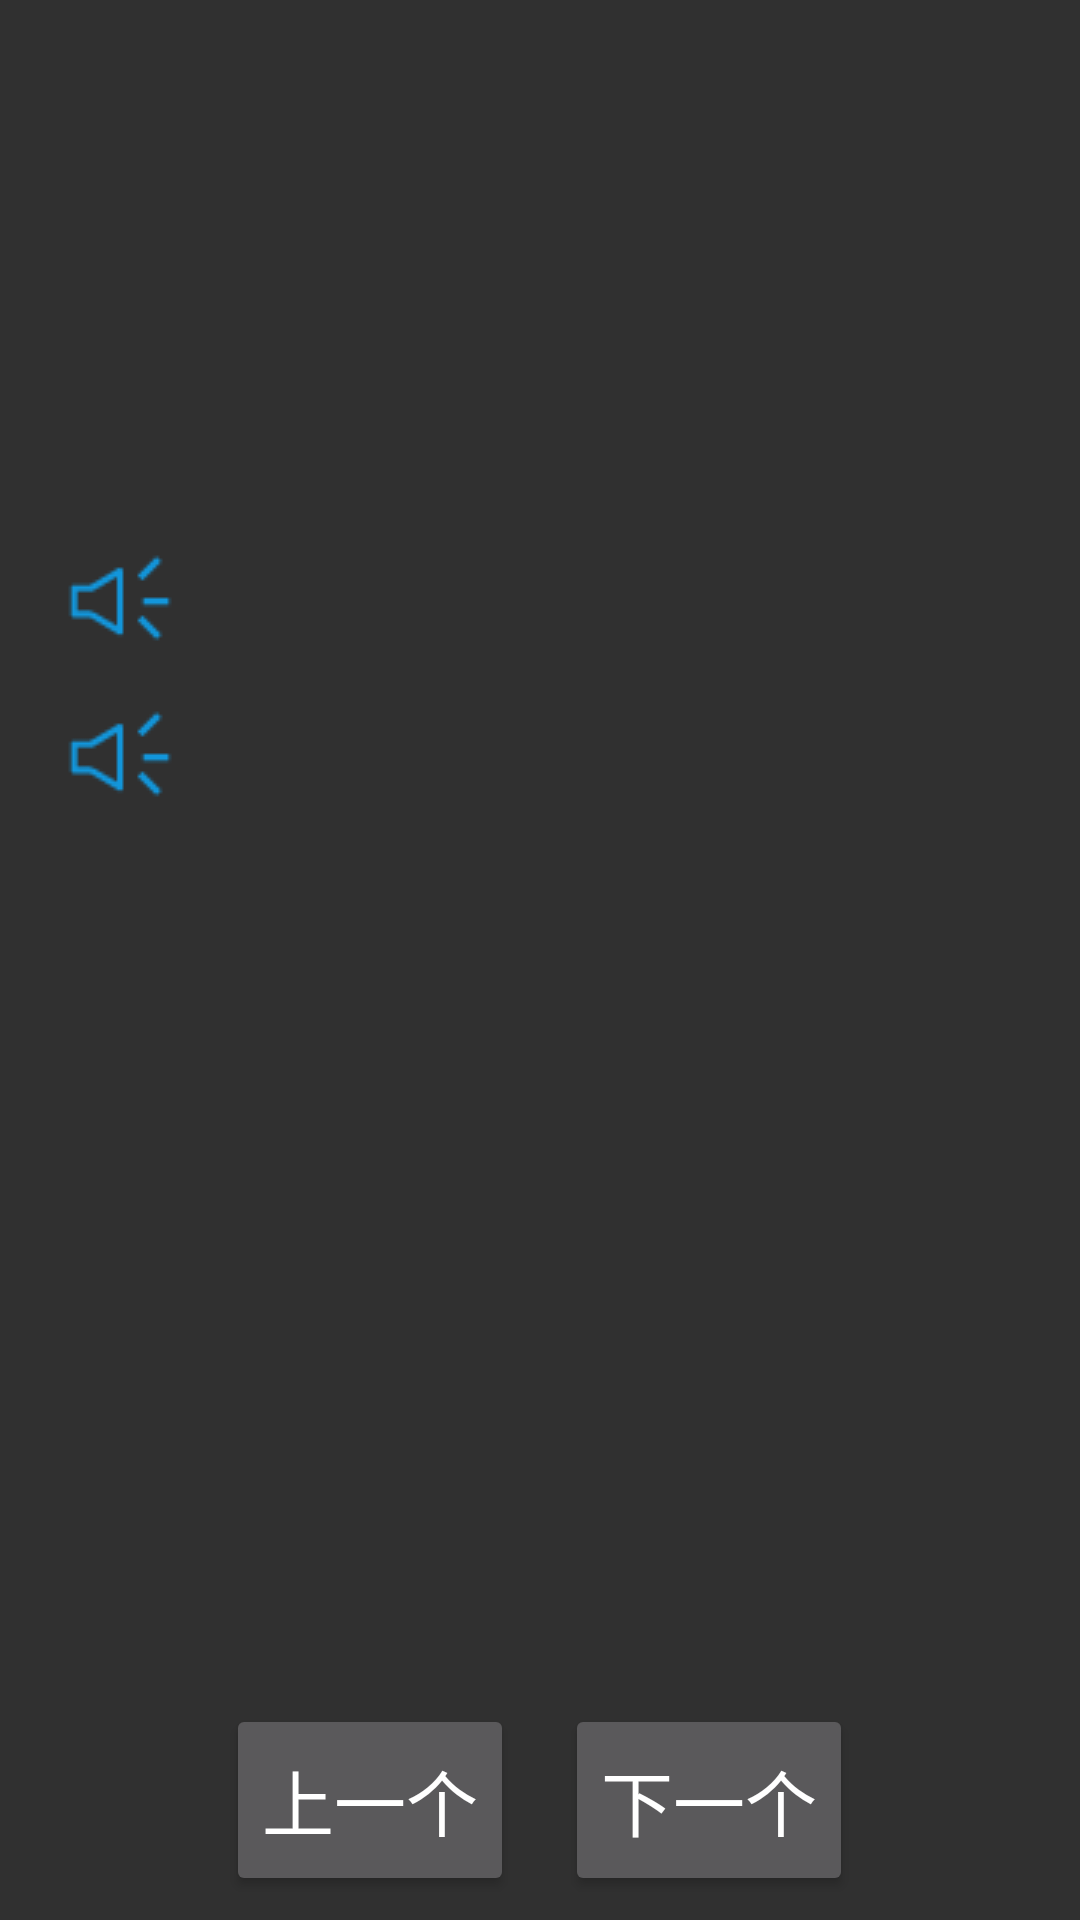

Icons on this 1080 × 1920 Android screen, each with the point to tap as (x,y):
read: (120,598), (120,754)
